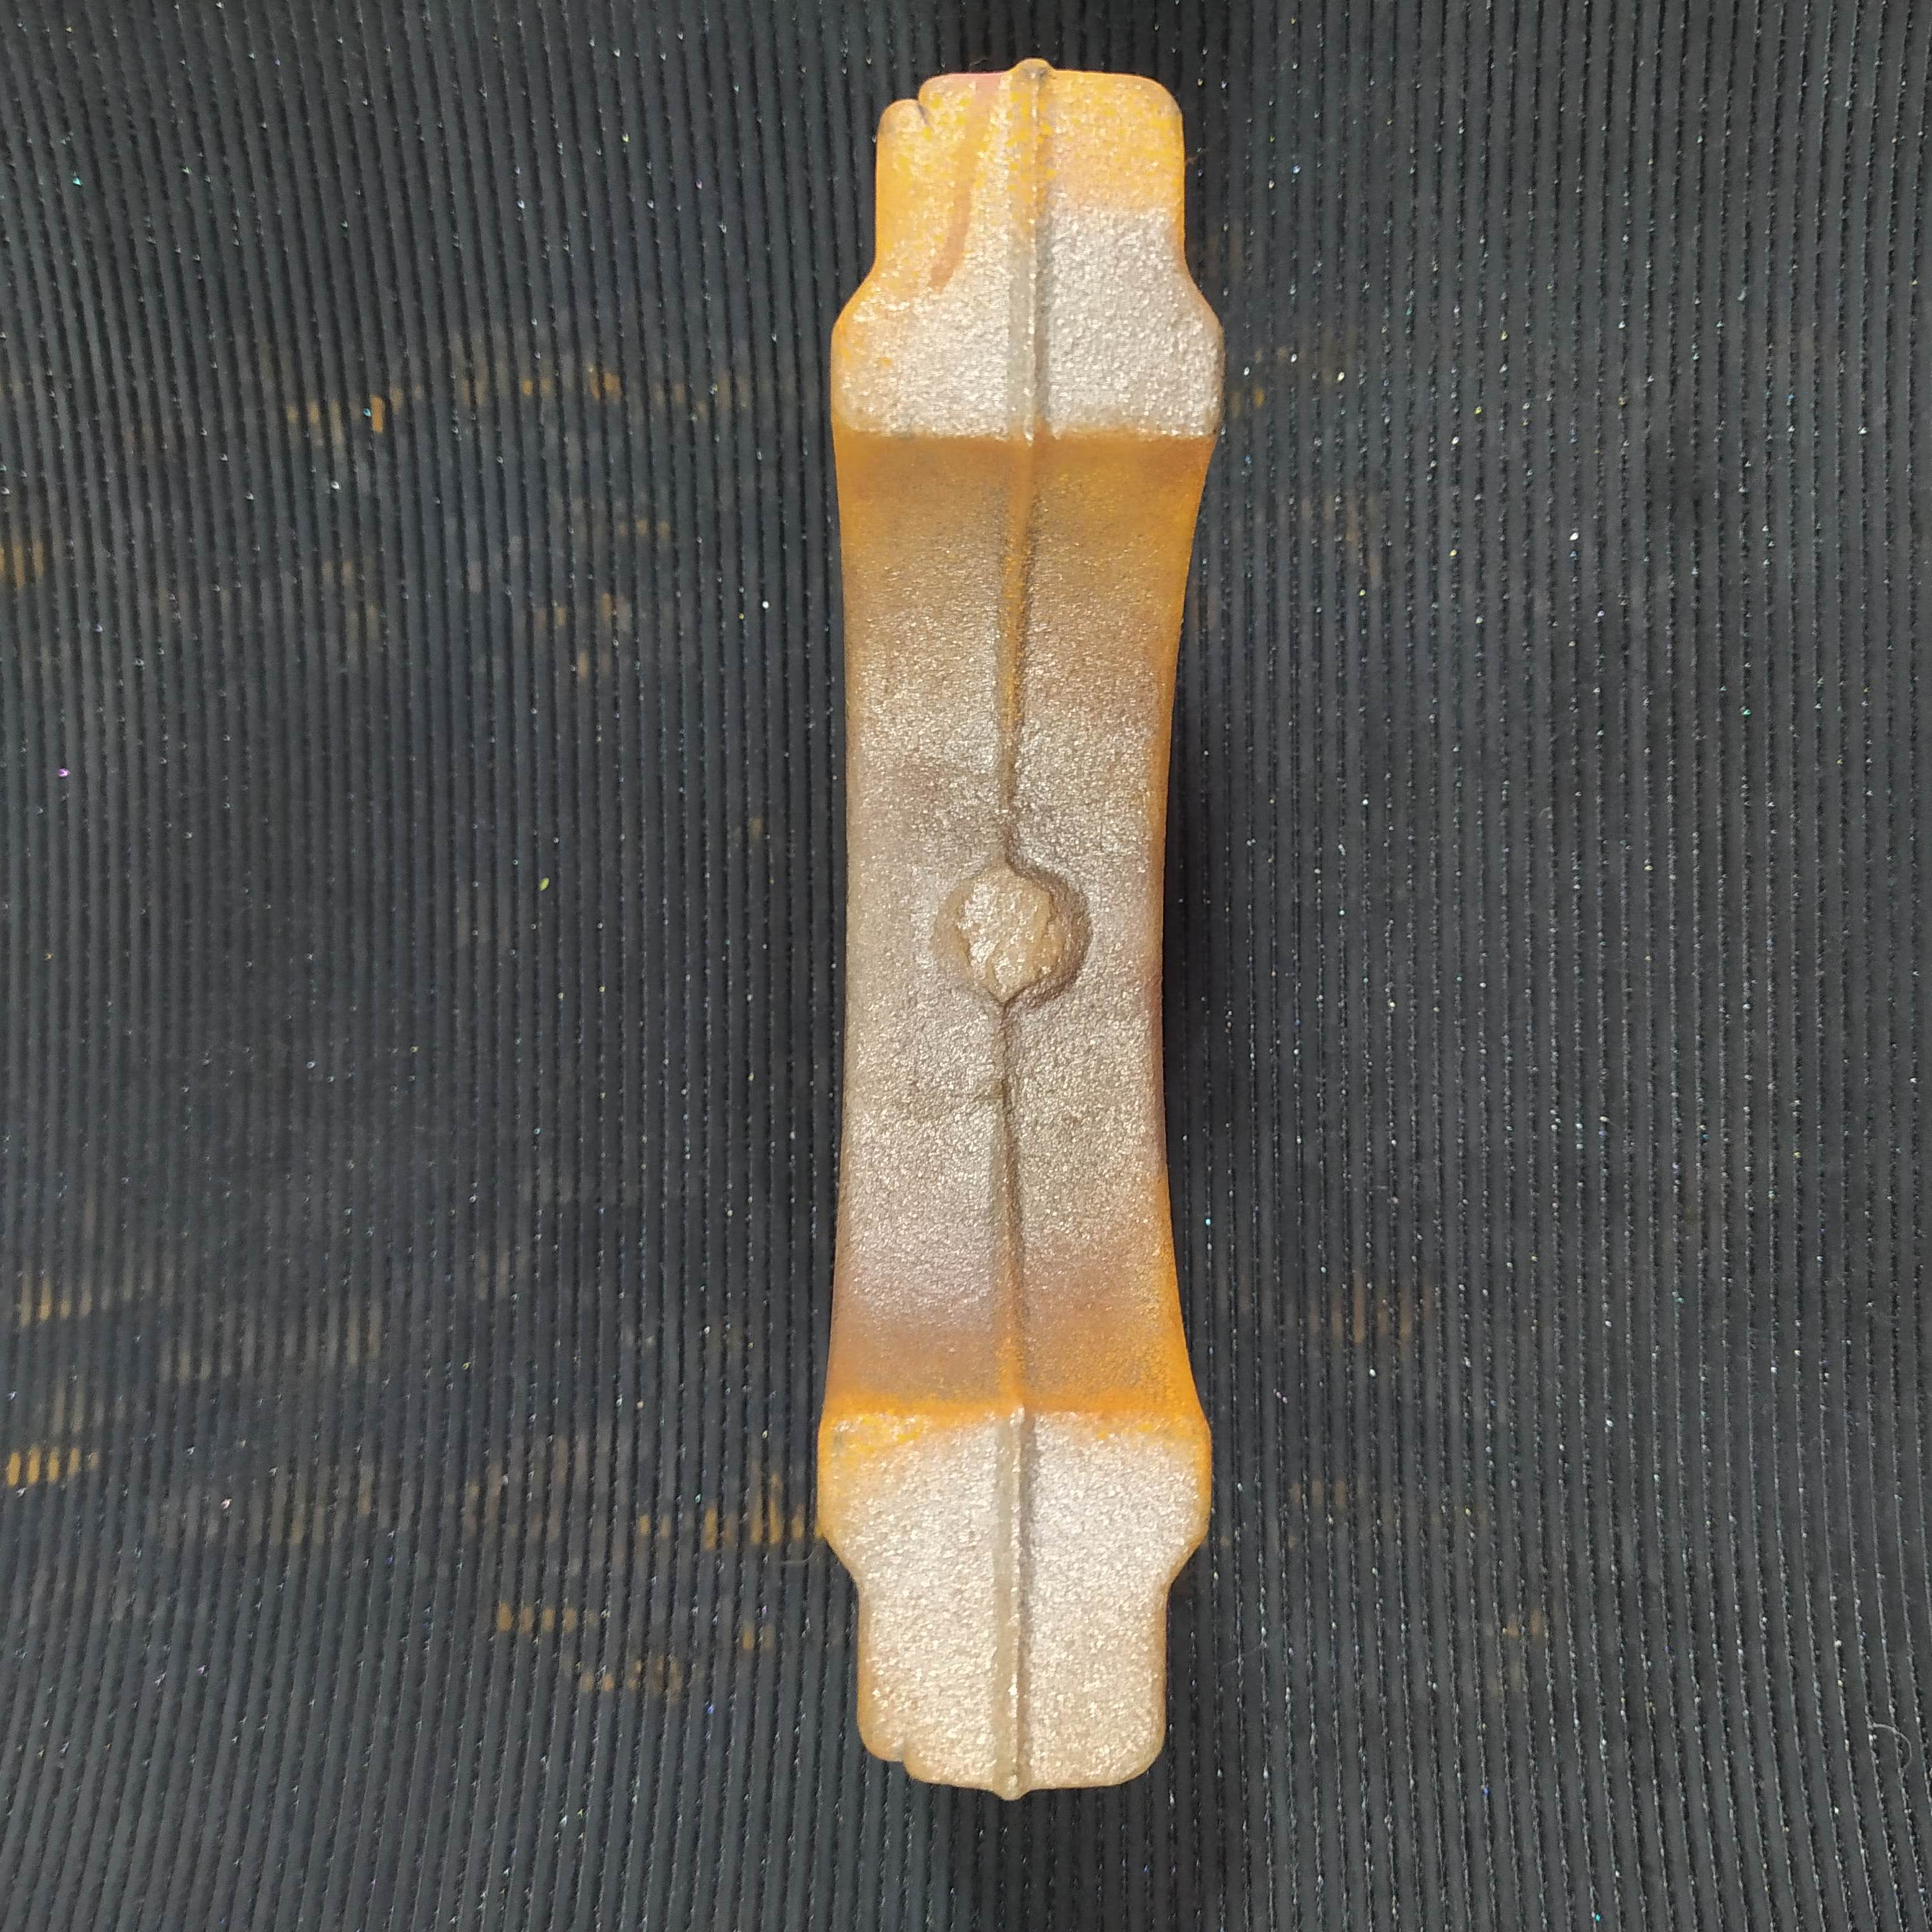rechupe: (895, 78, 943, 136), (876, 1732, 918, 1780)
